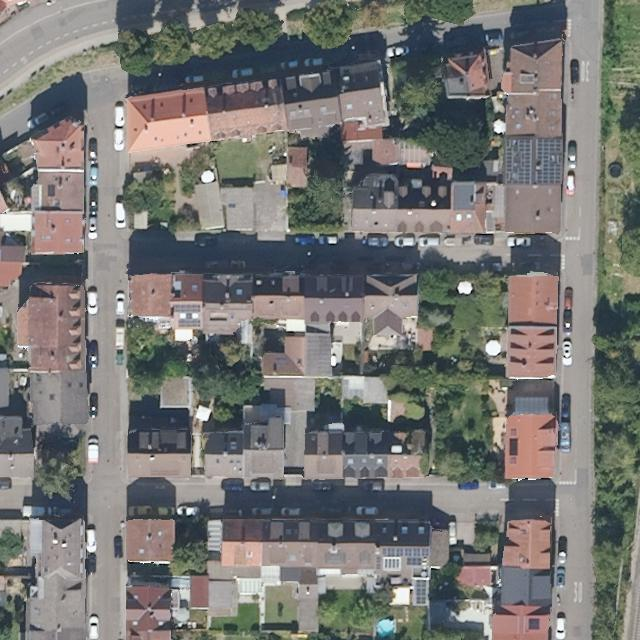PV: (501, 135, 562, 188), (381, 546, 430, 565), (415, 580, 427, 603), (375, 555, 383, 570)
